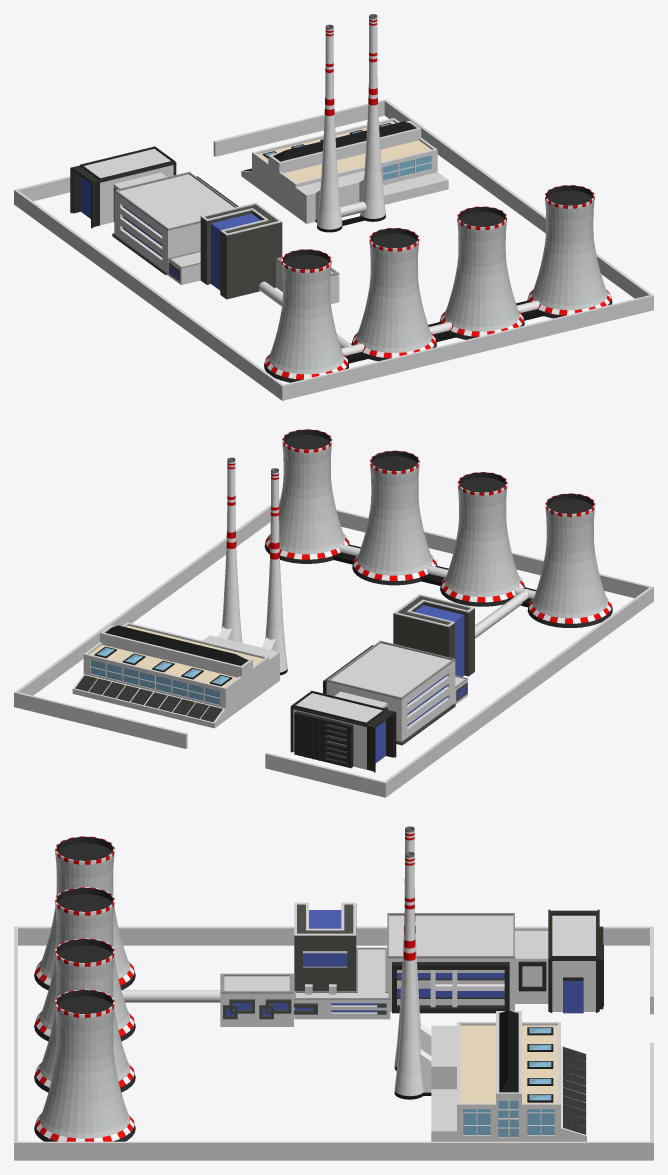
The model's file is powerplant.fbx.
The picture shows the model from 3 angles, top to bottom: view 1: azimuth 30°, elevation 25°; view 2: azimuth 150°, elevation 25°; view 3: azimuth 270°, elevation 25°; orthographic projection. The views are drawn at different scales.
Visible parts, largest first — view 1: modern_powerplant, Cube.006, Cube.023, cooling_tower.002, cooling_tower.001, cooling_tower, cooling_tower.003, chimney.001, chimney; view 2: modern_powerplant, Cube.006, Cube.023, cooling_tower.002, cooling_tower.001, cooling_tower.003, cooling_tower, chimney.001, chimney, Cylinder.001; view 3: modern_powerplant, Cube.006, Cube.023, cooling_tower, cooling_tower.003, cooling_tower.001, cooling_tower.002, chimney, Cylinder.001, chimney.001.
Boxes of the visible parts, box(x1,y1,x2,y2) form: modern_powerplant: box(70, 146, 339, 304); Cube.006: box(14, 99, 653, 400); Cube.023: box(241, 118, 448, 223); cooling_tower.002: box(264, 249, 348, 382); cooling_tower.001: box(439, 206, 524, 339); cooling_tower: box(527, 185, 612, 318); cooling_tower.003: box(352, 228, 436, 361); chimney.001: box(317, 24, 342, 232); chimney: box(360, 14, 385, 221); modern_powerplant: box(290, 594, 474, 772); Cube.006: box(14, 497, 653, 797); Cube.023: box(72, 622, 279, 728); cooling_tower.002: box(527, 493, 612, 627); cooling_tower.001: box(352, 450, 437, 585); cooling_tower.003: box(440, 472, 524, 606); cooling_tower: box(264, 429, 349, 563); chimney.001: box(265, 468, 287, 675); chimney: box(221, 457, 242, 642); Cylinder.001: box(475, 589, 528, 638); modern_powerplant: box(220, 902, 603, 1026); Cube.006: box(14, 926, 653, 1160); Cube.023: box(431, 1010, 586, 1141); cooling_tower: box(34, 989, 135, 1141); cooling_tower.003: box(34, 887, 135, 1041); cooling_tower.001: box(34, 938, 135, 1092); cooling_tower.002: box(34, 836, 135, 990); chimney: box(394, 851, 423, 1099); Cylinder.001: box(121, 990, 294, 1002); chimney.001: box(394, 826, 421, 1070).
Bounding box in the file's own units: 8008 × 4148 × 10010.
